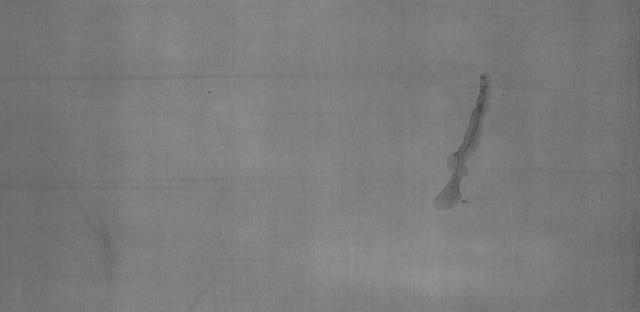water_spot: (424, 56, 500, 225)
